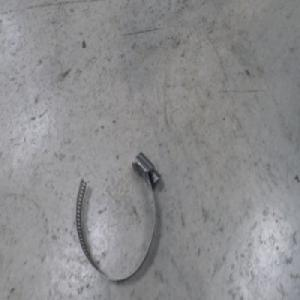AdjustableClamp: (74, 149, 160, 280)
